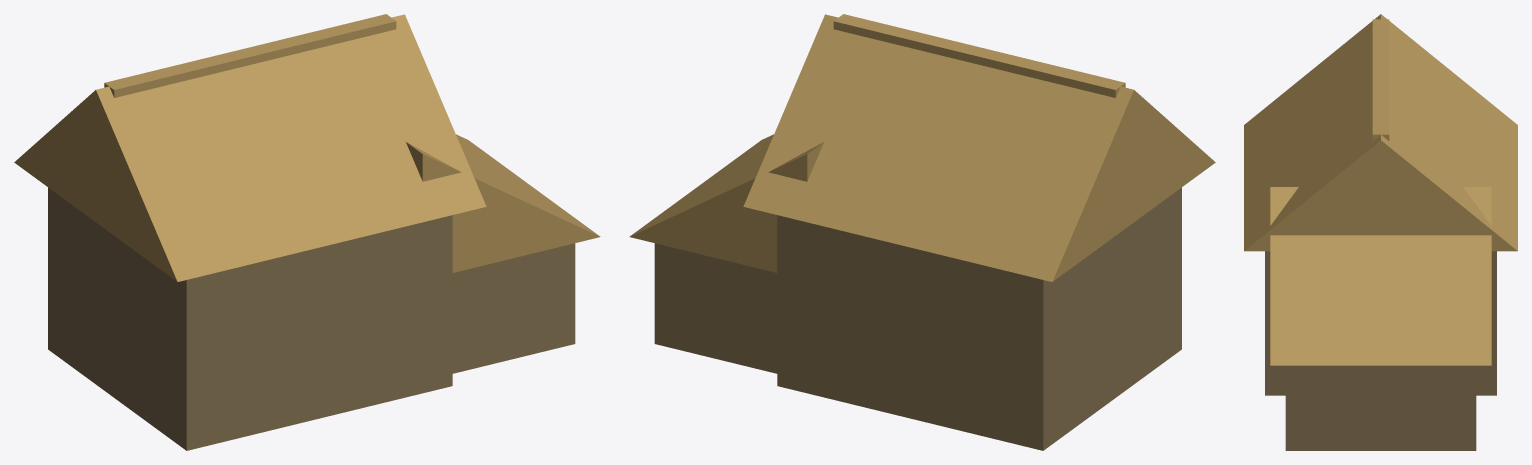
File: cottage_b.glb
The picture shows the model from 3 angles, left to right: view 1: azimuth 30°, elevation 25°; view 2: azimuth 150°, elevation 25°; view 3: azimuth 270°, elevation 25°; orthographic projection. The views are drawn at different scales.
Visible parts, largest first — view 1: cottage_b; view 2: cottage_b; view 3: cottage_b.
Part boxes in pixels (x1,y1,x2,y2): cottage_b: (14,14,600,450); cottage_b: (629,14,1215,450); cottage_b: (1244,14,1517,450).
Bounding box in the file's own units: 8 × 5.5 × 5.16.
